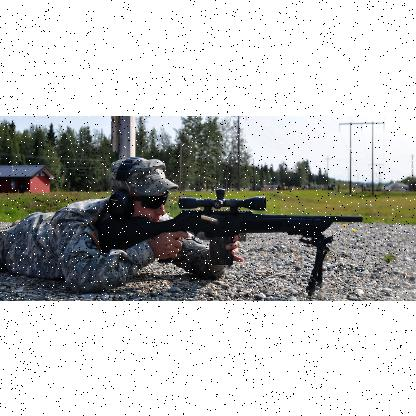gun: (97, 188, 362, 286)
